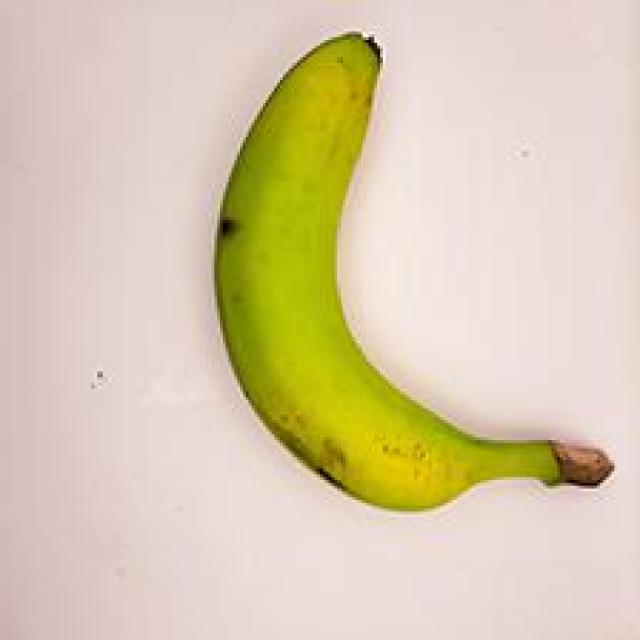Unripe: (190, 16, 620, 526)
